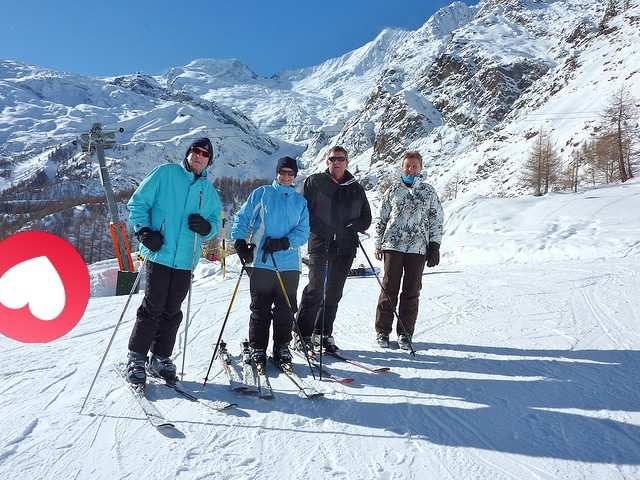love: (0, 231, 90, 343)
